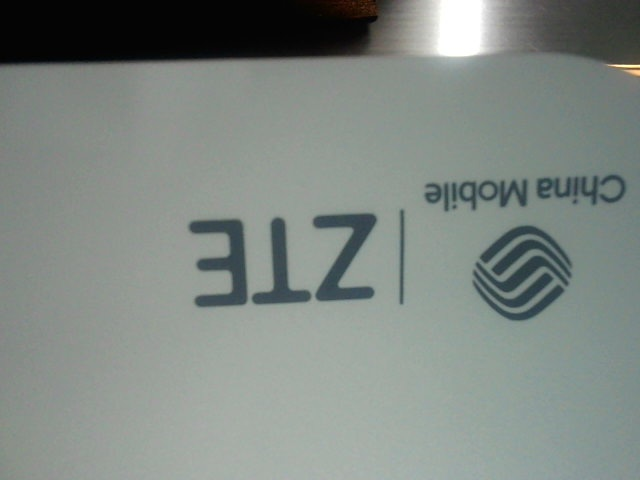AL_ZTEChinaMobile: (184, 170, 631, 318)
